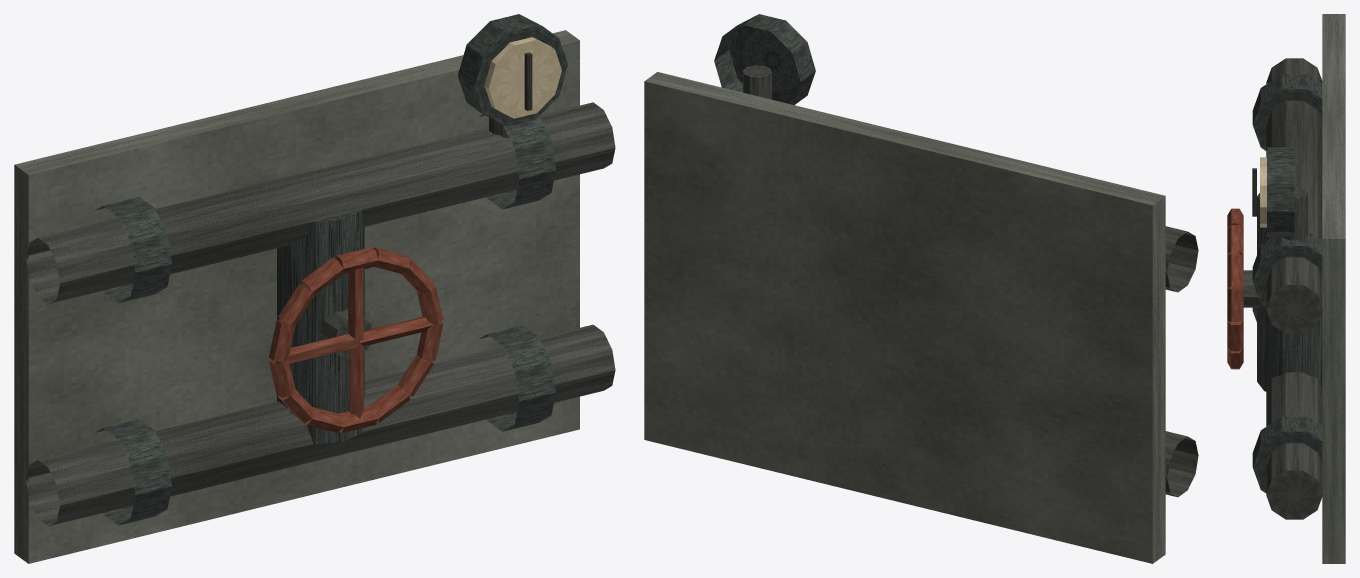
Rendered from g4_valve.gltf.
The picture shows the model from 3 angles, left to right: view 1: azimuth 30°, elevation 25°; view 2: azimuth 150°, elevation 25°; view 3: azimuth 270°, elevation 25°; orthographic projection. The views are drawn at different scales.
Parts seen in each view (by area): view 1: g4_valve; view 2: g4_valve; view 3: g4_valve.
Boxes of the visible parts, x1,y1,x2,y2 form: g4_valve: (14,14,615,563); g4_valve: (644,14,1198,563); g4_valve: (1227,14,1345,563).
Size of the model in its own units: 1.36 by 1.04 by 0.301.
Materials: 1 (1 with a texture image).
